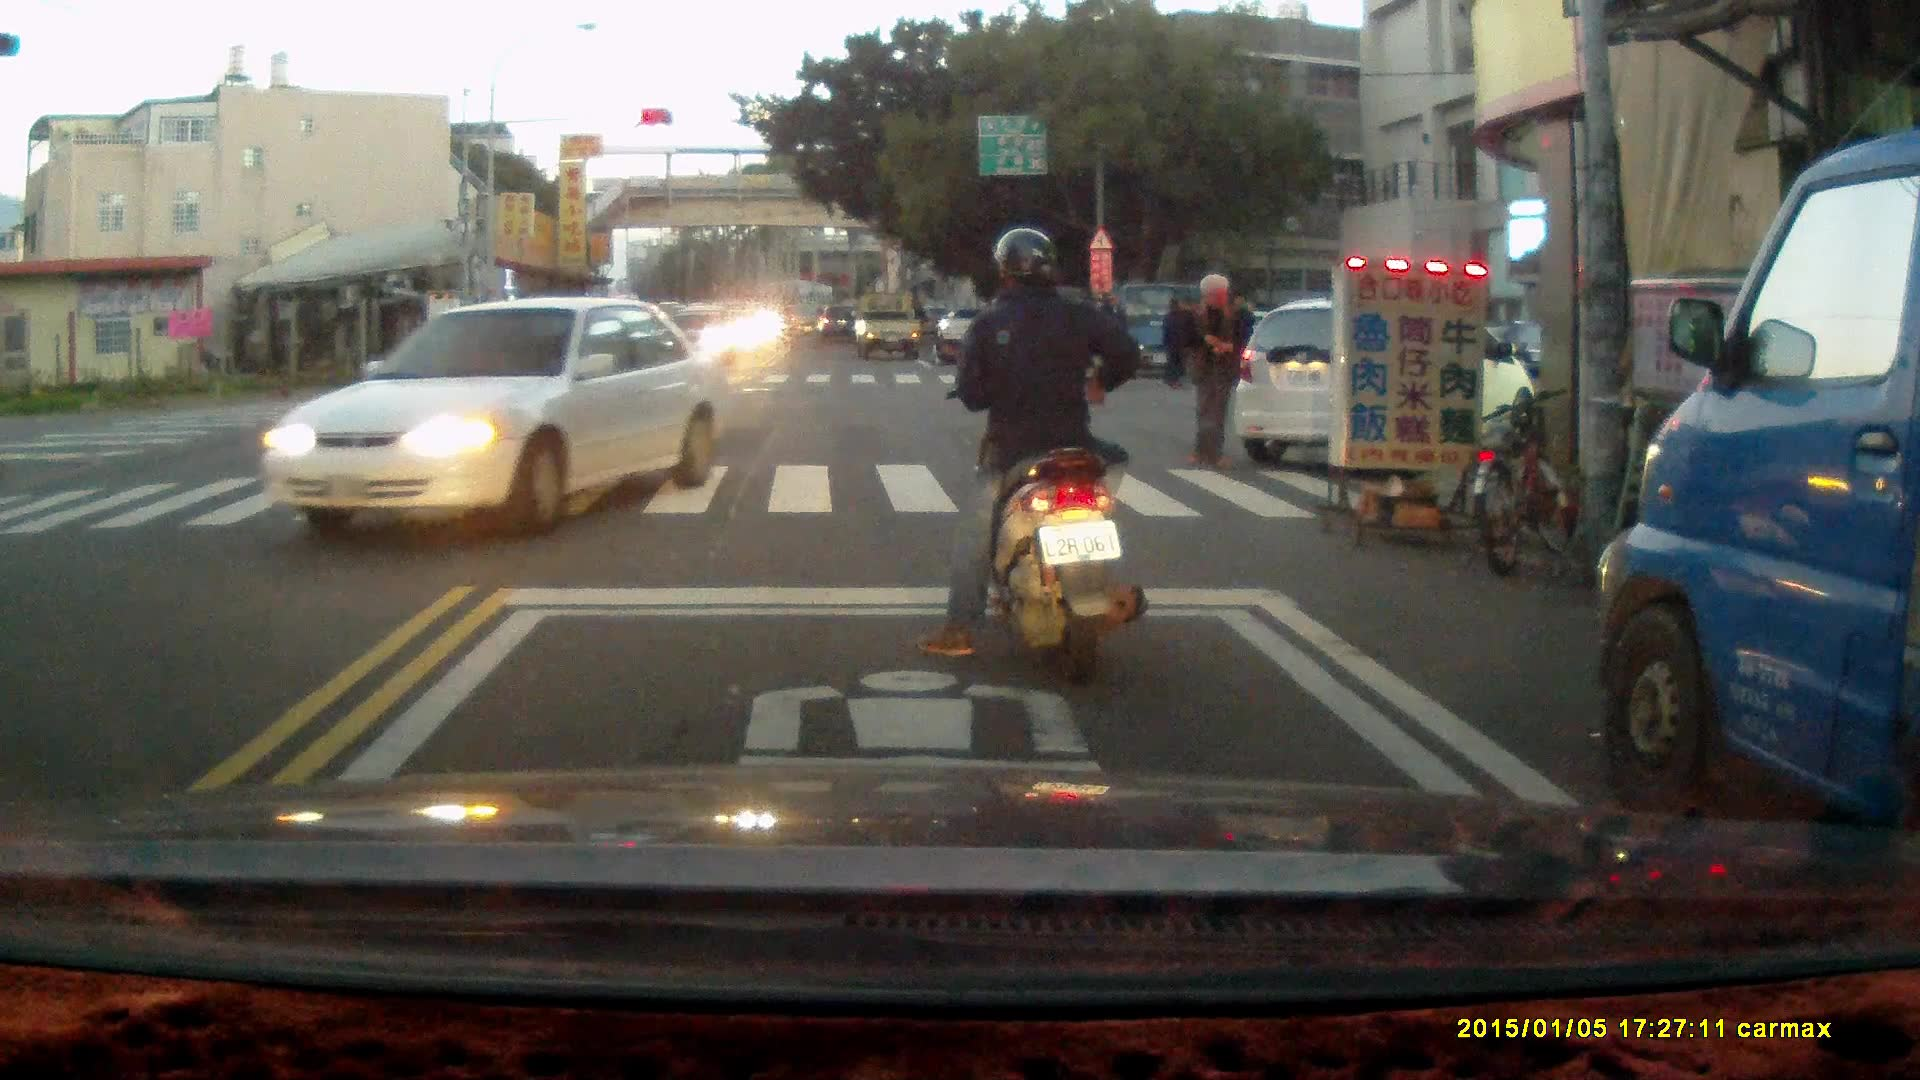pedestrian: (1180, 273, 1239, 472), (1092, 289, 1133, 388), (1160, 294, 1194, 391)
rider: (918, 230, 1149, 686)
vehicle: (1596, 120, 1920, 901), (263, 295, 720, 538), (1236, 303, 1533, 462), (660, 300, 740, 374), (853, 291, 923, 363)
